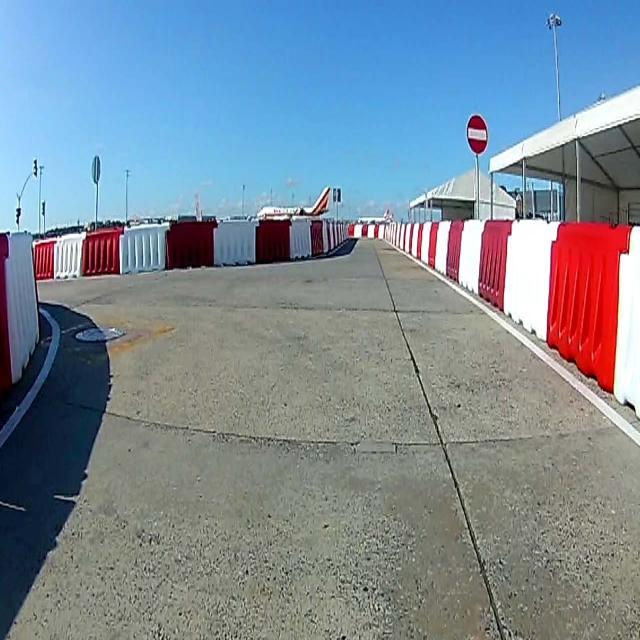girisyok: (467, 113, 488, 155)
